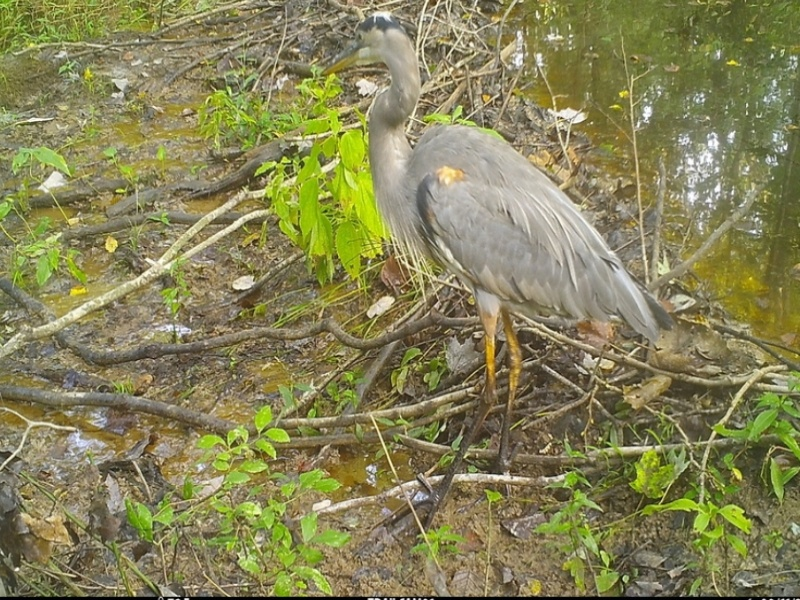heron: (320, 12, 683, 551)
